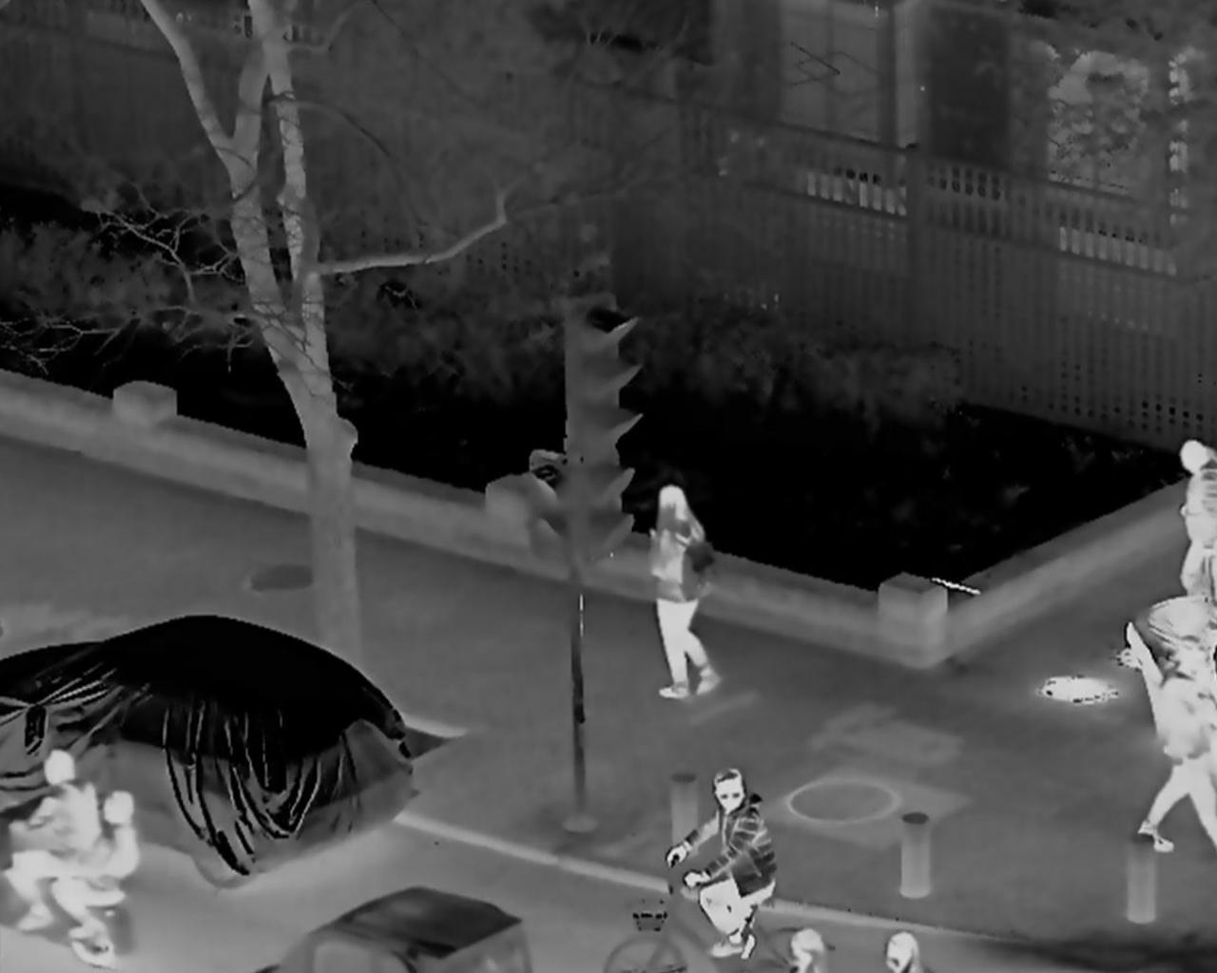person: (668, 765, 765, 962), (640, 492, 727, 700), (1139, 643, 1217, 845), (11, 754, 92, 932), (52, 792, 136, 944), (1165, 437, 1217, 615), (1133, 597, 1217, 696), (879, 929, 936, 973), (782, 929, 830, 973)
